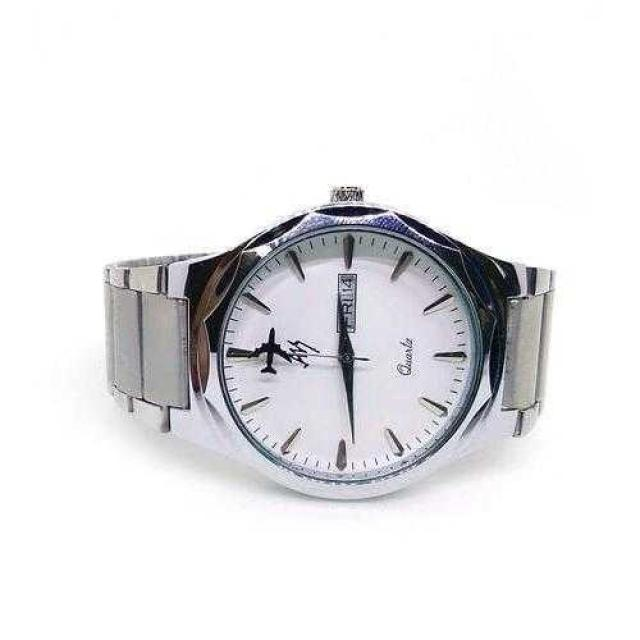watch: (225, 202, 482, 513)
